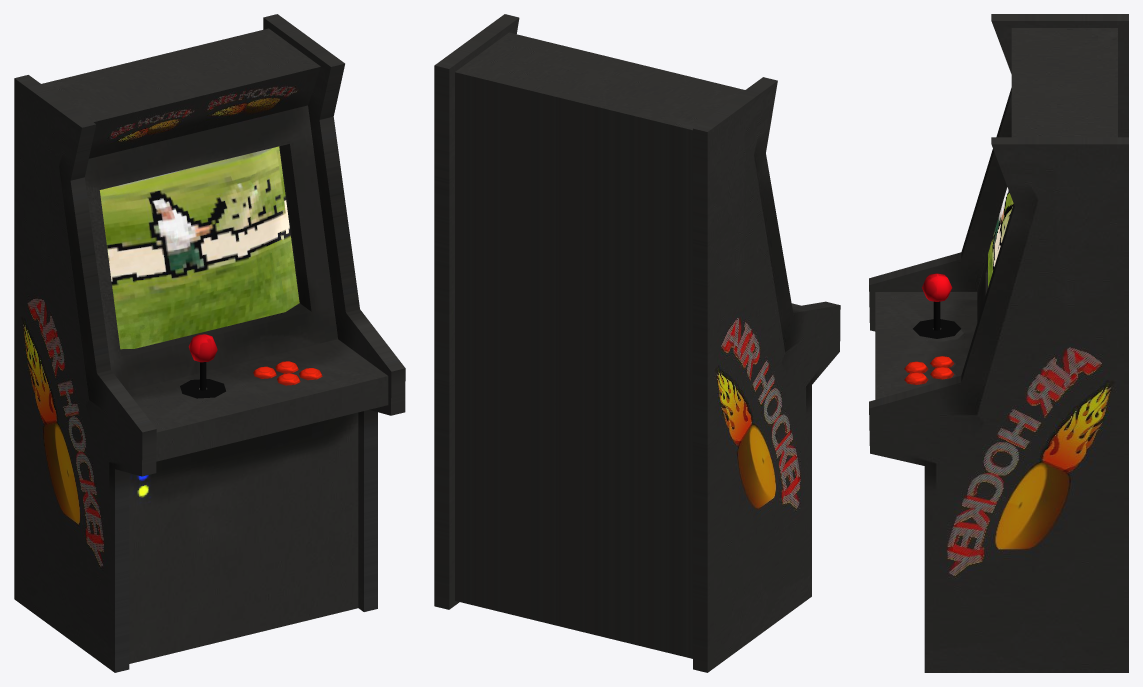
The model's file is cabinet.glb.
3 views of the same model, side by side, from view 1: azimuth 30°, elevation 25°; view 2: azimuth 150°, elevation 25°; view 3: azimuth 270°, elevation 25° (orthographic). The views are drawn at different scales.
Parts seen in each view (by area): view 1: Cabinet; view 2: Cabinet; view 3: Cabinet.
Part boxes in pixels (x1,y1,x2,y2): Cabinet: [14, 14, 405, 672]; Cabinet: [434, 14, 840, 672]; Cabinet: [869, 14, 1128, 672].
Size of the model in its own units: 0.7509 by 1.42 by 0.6331.
Materials: 1 (1 with a texture image).
